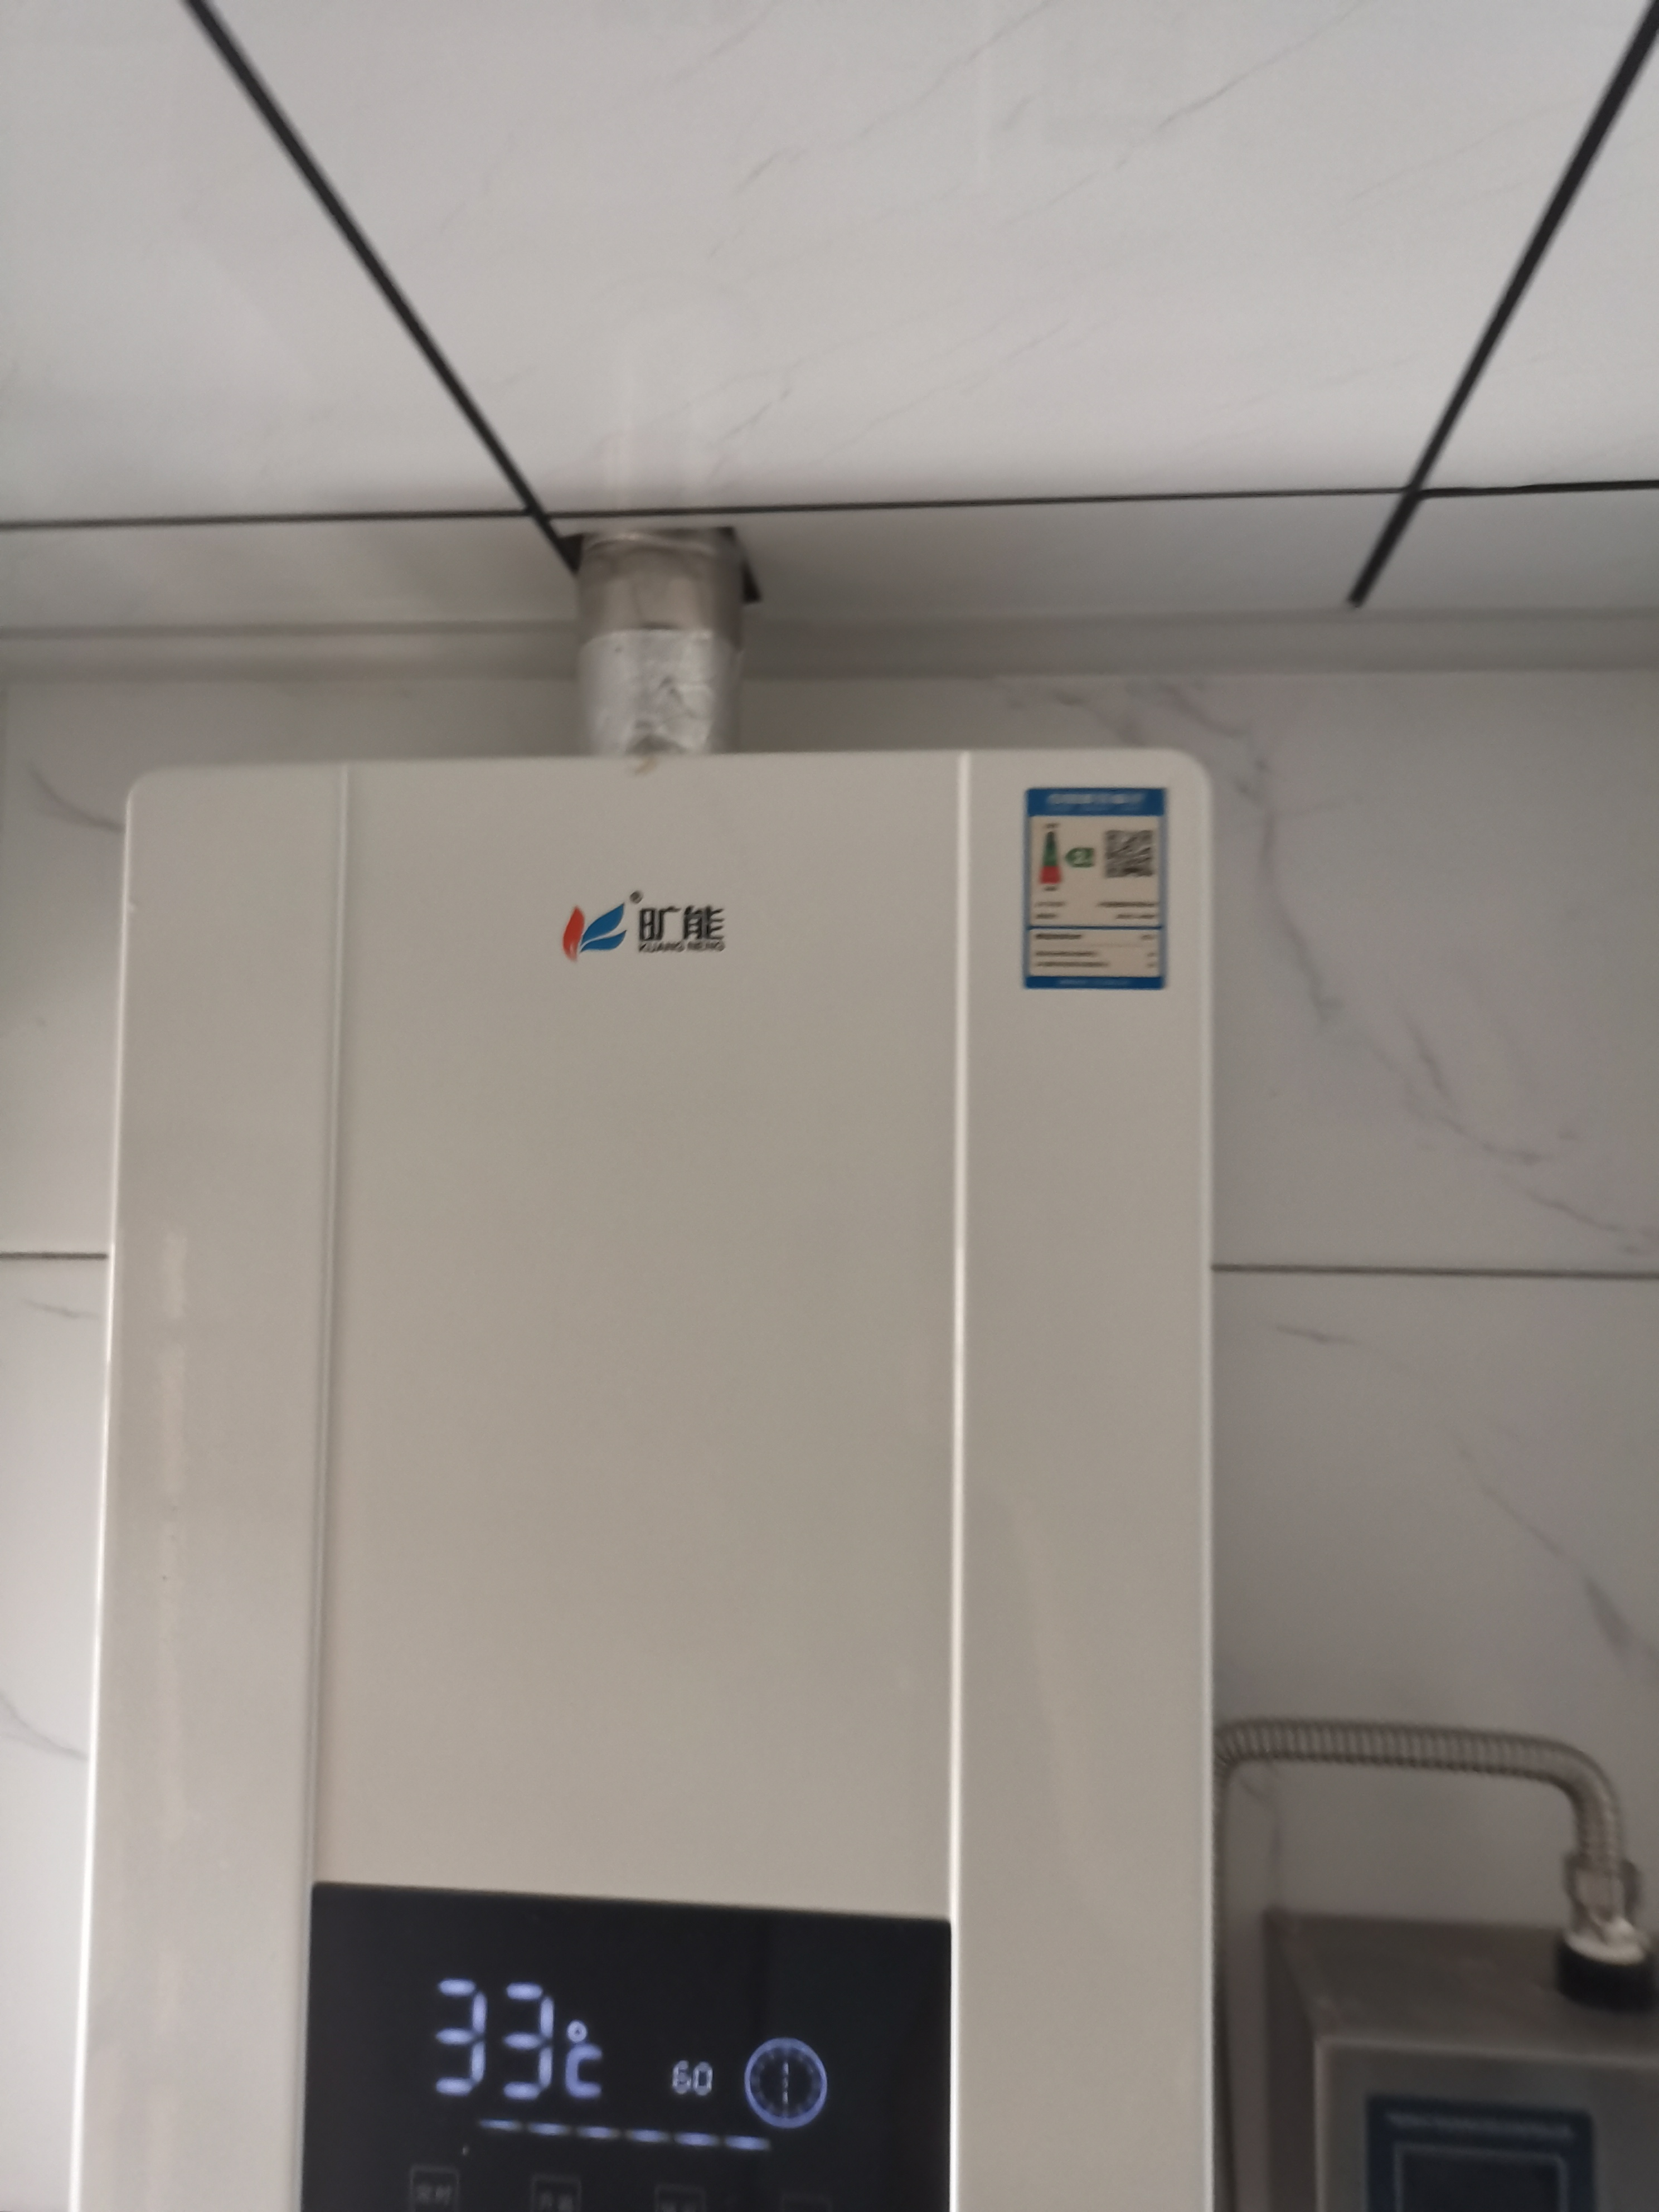loudou: (545, 881, 739, 968)
